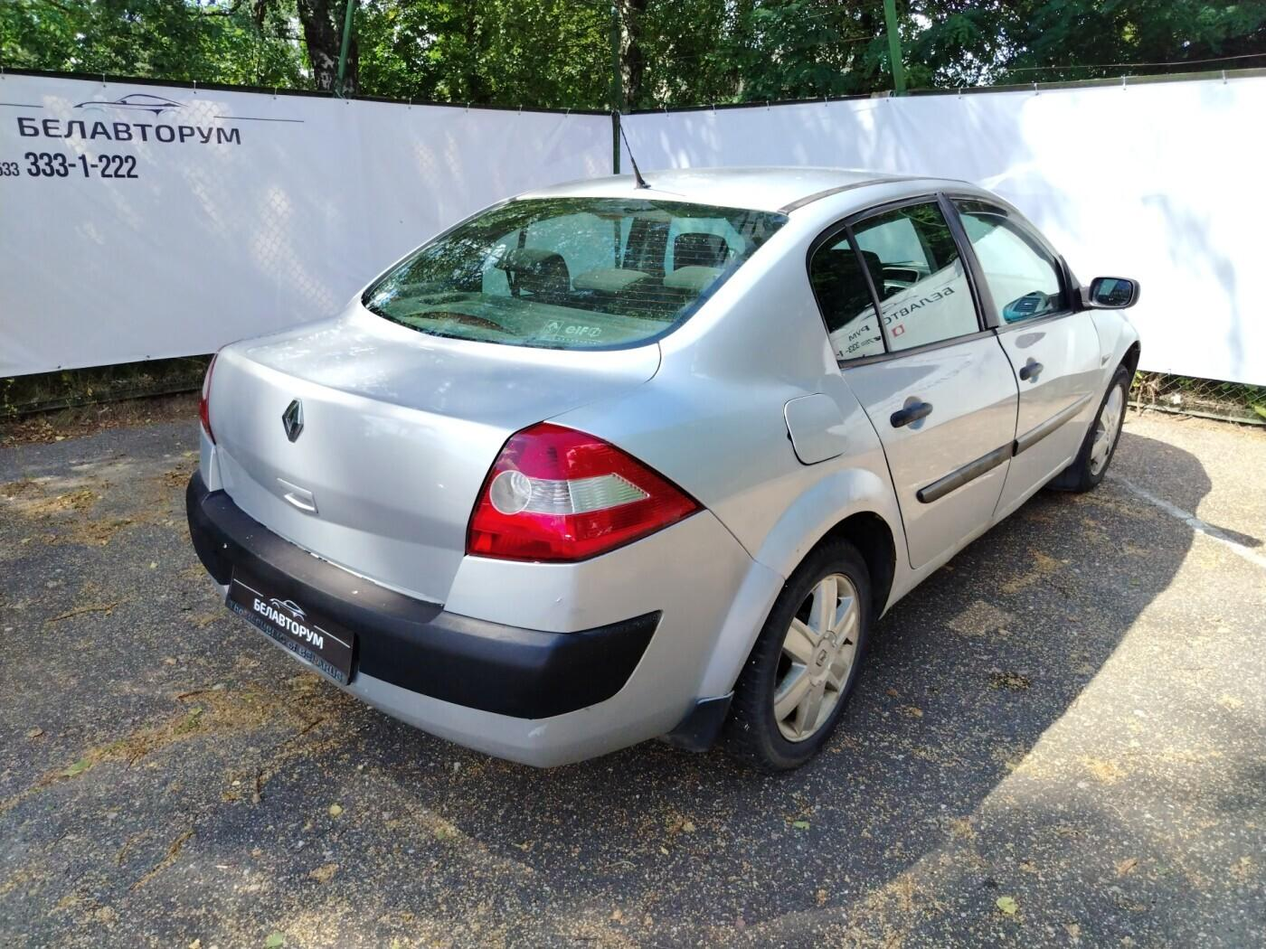Megane_2002-2006: (164, 164, 1142, 802)
